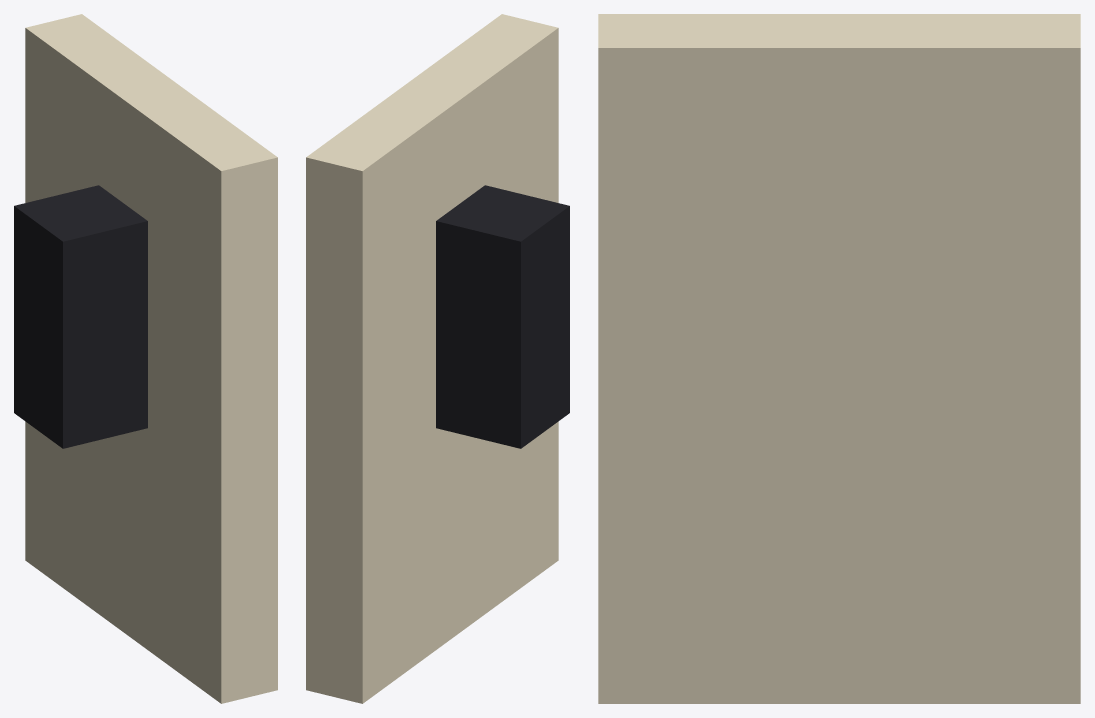
Rendered from costume_switch.glb.
3 renders of one model, left to right at view 1: azimuth 30°, elevation 25°; view 2: azimuth 150°, elevation 25°; view 3: azimuth 270°, elevation 25°, orthographic. The views are drawn at different scales.
Parts seen in each view (by area): view 1: plate_switch_plate, lever_switch_lever; view 2: plate_switch_plate, lever_switch_lever; view 3: plate_switch_plate.
Part boxes in pixels (bbox=[...]): plate_switch_plate: bbox=[25, 14, 277, 703]; lever_switch_lever: bbox=[14, 185, 147, 448]; plate_switch_plate: bbox=[306, 14, 558, 703]; lever_switch_lever: bbox=[436, 185, 569, 448]; plate_switch_plate: bbox=[598, 14, 1080, 703].
Size of the model in its own units: 0.05 by 0.18 by 0.12.
